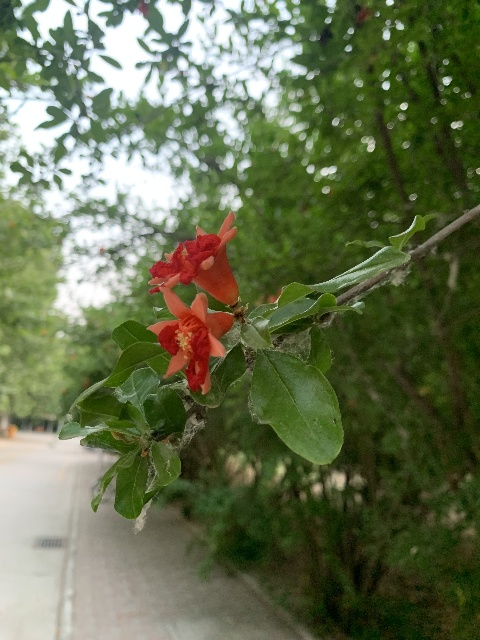flower: (146, 289, 235, 394), (146, 210, 239, 305)
